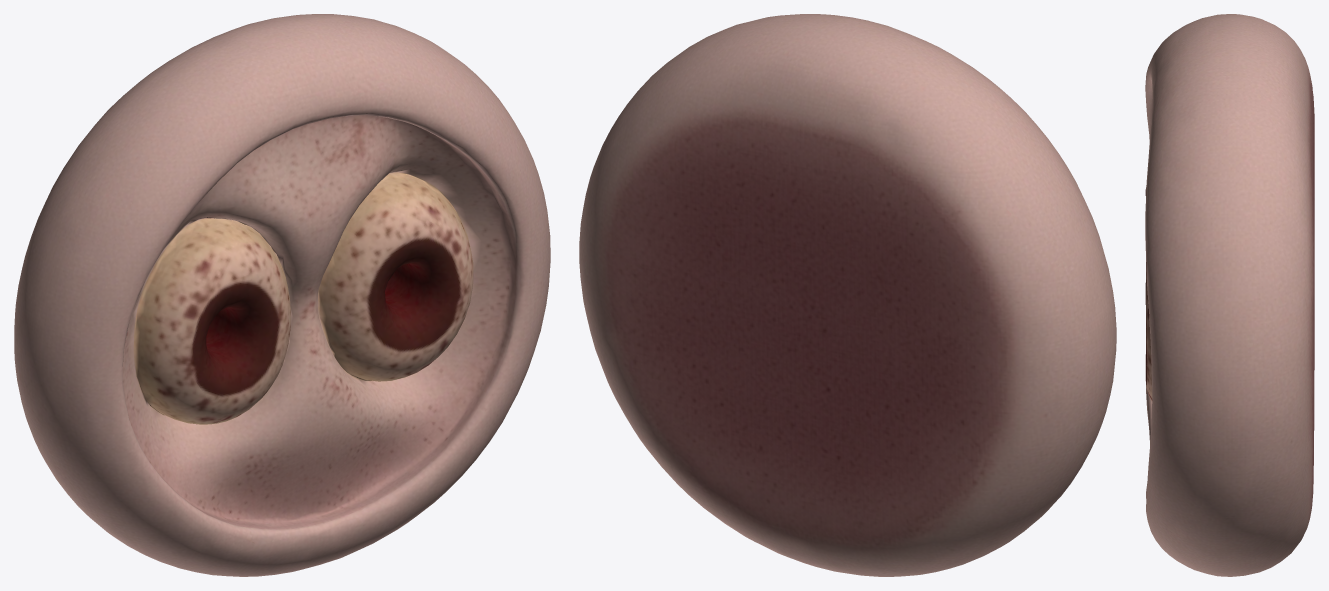
File: reed-sternberg-cell.glb
3 renders of one model, left to right at view 1: azimuth 30°, elevation 25°; view 2: azimuth 150°, elevation 25°; view 3: azimuth 270°, elevation 25°, orthographic. The views are drawn at different scales.
Parts seen in each view (by area): view 1: world; view 2: world; view 3: world.
Part boxes in pixels (bbox=[...]): world: bbox=[14, 14, 550, 576]; world: bbox=[579, 14, 1116, 576]; world: bbox=[1145, 14, 1314, 576].
Size of the model in its own units: 1 by 1 by 0.3019.
1 material, 1 textured.
